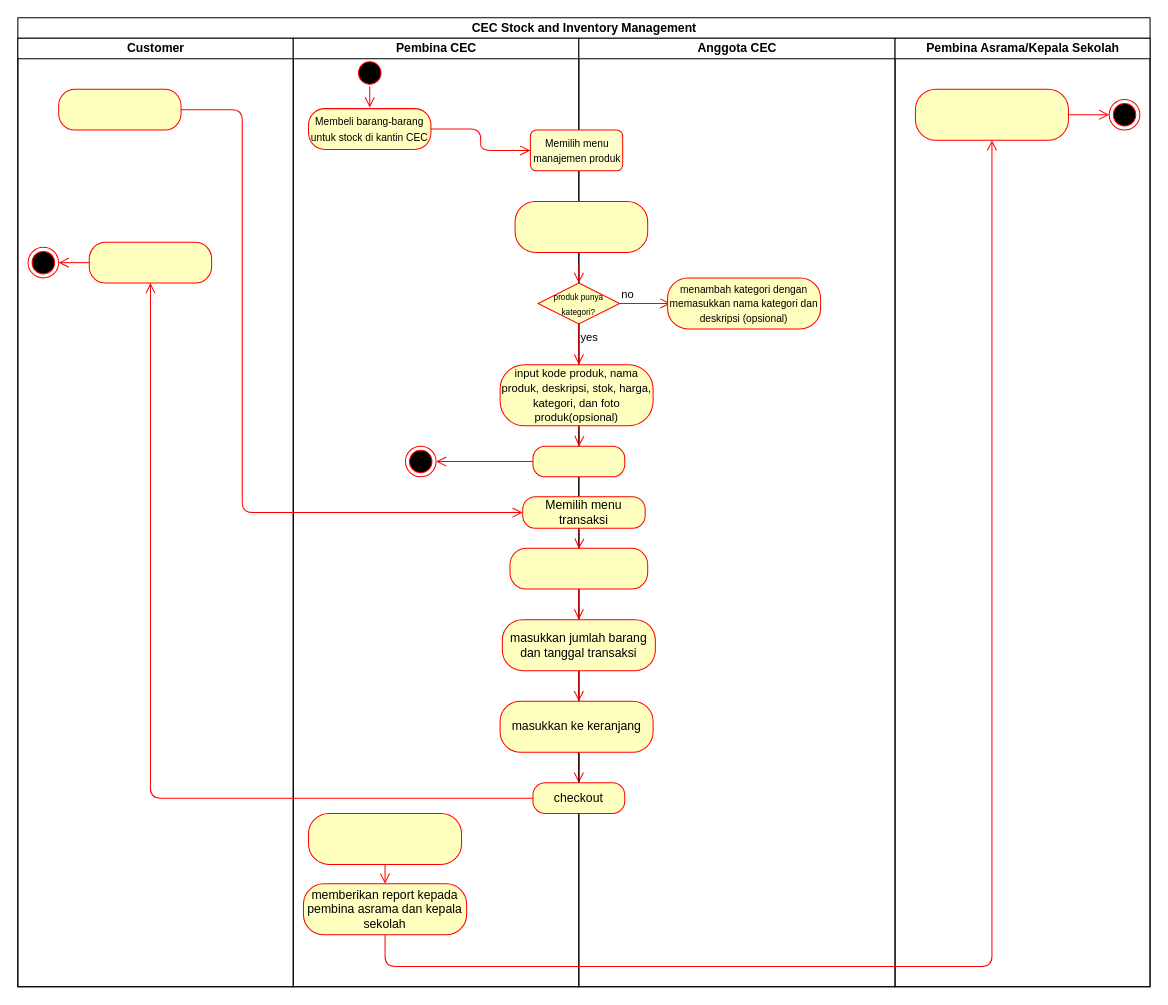
The diagram is 1168 pixels wide and 1005 high, and some of its shapes have lost their labels. The centre of each missing label's shape, as x and y in pixels:
Cetak atau bagikan report data total penjualan dan laba: (x=385, y=838)
melakukan pembayaran ke kasir: (x=150, y=262)
Membeli suatu item: (x=119, y=109)
memilih produk dan jumlah produk yang akan dibeli: (x=578, y=568)
menambah data "kategori" atau data "produk": (x=581, y=226)
menerima report data total penjualan dan pembelian: (x=991, y=114)
simpan data: (x=578, y=461)
